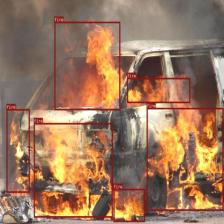fire: (146, 108, 224, 210), (34, 123, 113, 217), (54, 22, 120, 110), (6, 109, 30, 192), (127, 78, 190, 103), (113, 189, 145, 222)
